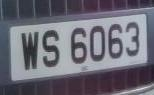0: (88, 20, 107, 68)
3: (124, 17, 142, 64)
6: (68, 21, 90, 71), (106, 19, 125, 65)
S: (39, 25, 64, 72)
W: (17, 28, 43, 74)
